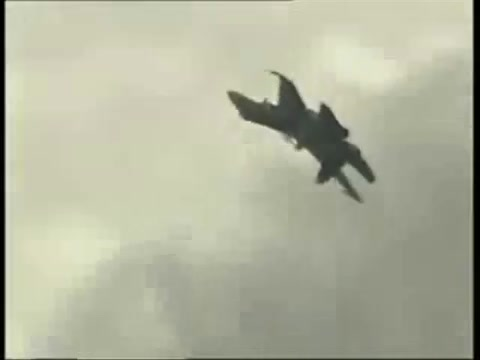aeroplane: (228, 66, 377, 204)
